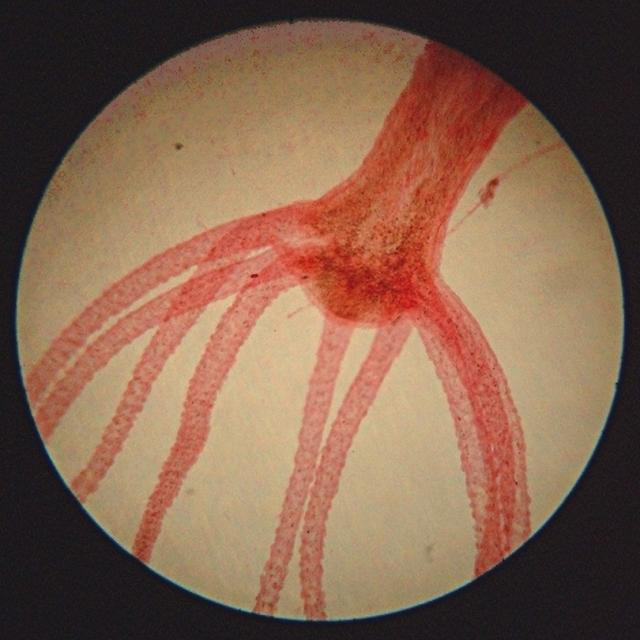Rod_bacteria: (22, 37, 557, 621)
